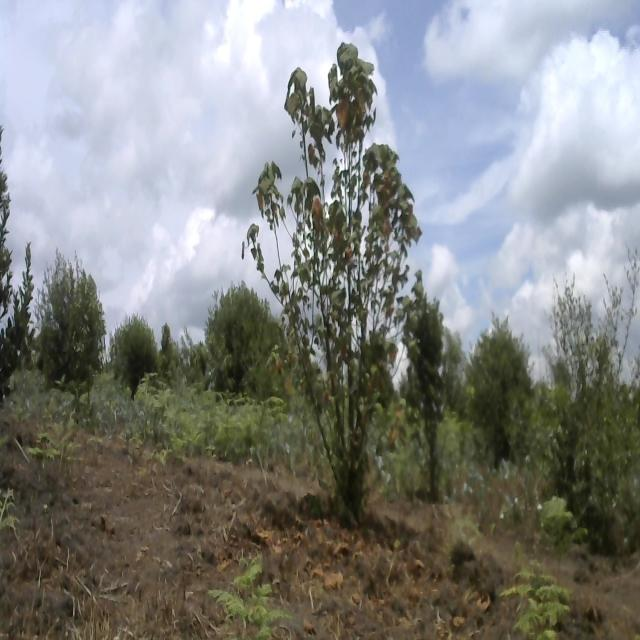Salix alba: (34, 243, 108, 407), (464, 315, 532, 466), (110, 307, 163, 396)
other: (245, 27, 424, 521), (402, 292, 451, 493)
